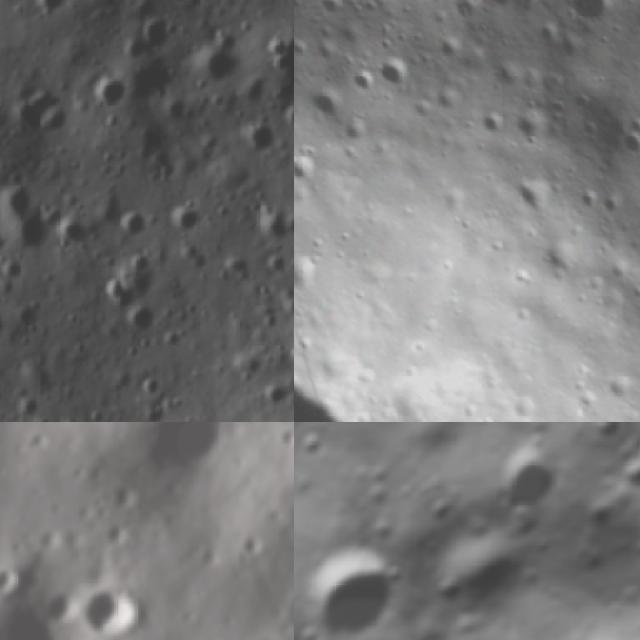crater: (95, 422, 280, 525), (419, 506, 548, 634), (294, 520, 415, 640), (484, 440, 574, 531), (62, 566, 159, 640), (297, 81, 351, 137), (270, 453, 294, 565), (510, 173, 560, 225), (373, 50, 417, 100), (559, 0, 625, 33), (609, 448, 640, 511), (508, 102, 552, 146), (597, 366, 640, 411), (0, 555, 31, 617), (294, 247, 328, 301), (161, 195, 202, 232), (294, 147, 324, 193), (95, 68, 124, 114), (474, 108, 511, 144), (231, 619, 294, 640), (347, 66, 383, 101), (125, 304, 162, 338), (59, 210, 84, 249), (616, 131, 640, 163), (482, 0, 522, 14)
